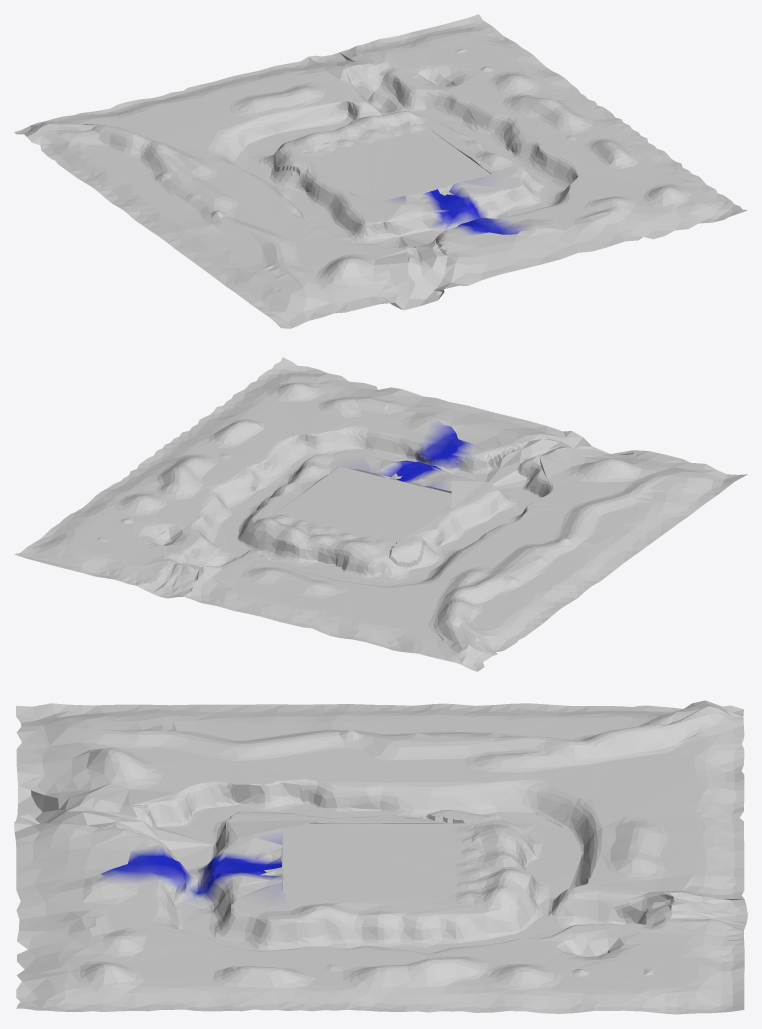
The model's file is Collada_Nature_02.fbx.
3 renders of one model, top to bottom at view 1: azimuth 30°, elevation 25°; view 2: azimuth 150°, elevation 25°; view 3: azimuth 270°, elevation 25°, orthographic. The views are drawn at different scales.
Parts seen in each view (by area): view 1: Mud; view 2: Mud; view 3: Mud.
Boxes of the visible parts, bbox=[...] form: Mud: bbox=[14, 14, 747, 328]; Mud: bbox=[14, 357, 747, 671]; Mud: bbox=[14, 700, 747, 1014].
Size of what is drawn, in the model's own units: 92513 by 5939 by 93088.
